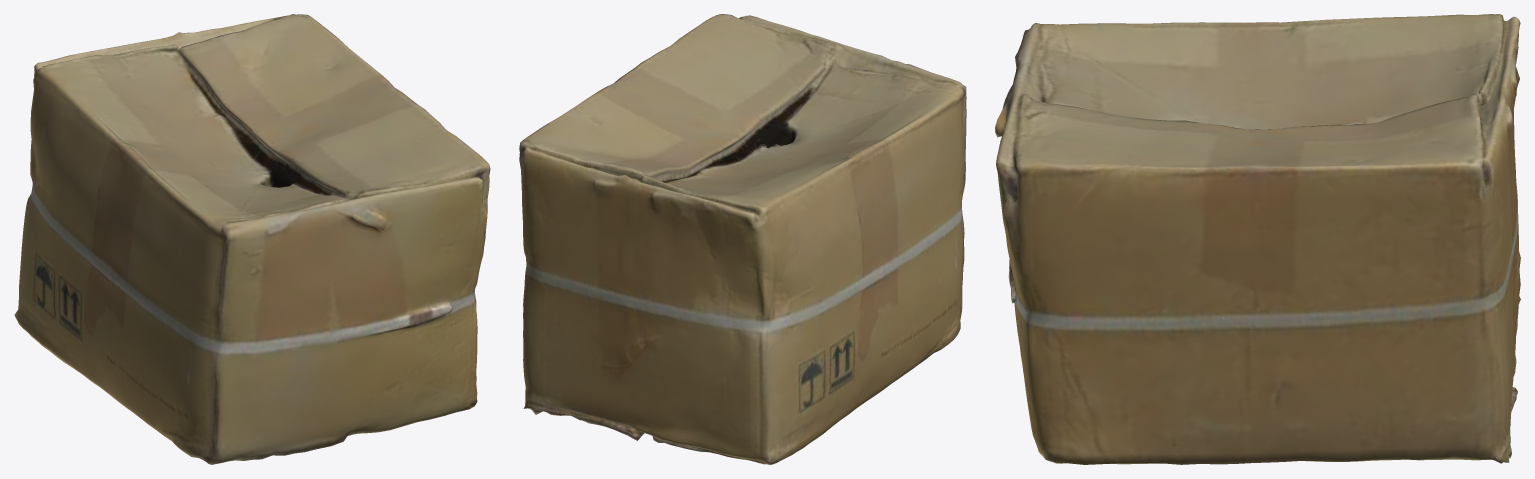
Rendered from cardboard_box_01.glb.
The picture shows the model from 3 angles, left to right: view 1: azimuth 30°, elevation 25°; view 2: azimuth 150°, elevation 25°; view 3: azimuth 270°, elevation 25°; orthographic projection. The views are drawn at different scales.
Parts seen in each view (by area): view 1: cardboard_box_01; view 2: cardboard_box_01; view 3: cardboard_box_01.
Boxes of the visible parts, x1=… form: cardboard_box_01: x1=14, y1=14, x2=490, y2=464; cardboard_box_01: x1=519, y1=14, x2=966, y2=464; cardboard_box_01: x1=995, y1=14, x2=1520, y2=464.
Bounding box in the file's own units: 0.387 × 0.3418 × 0.5159.
Materials: 1 (1 with a texture image).
